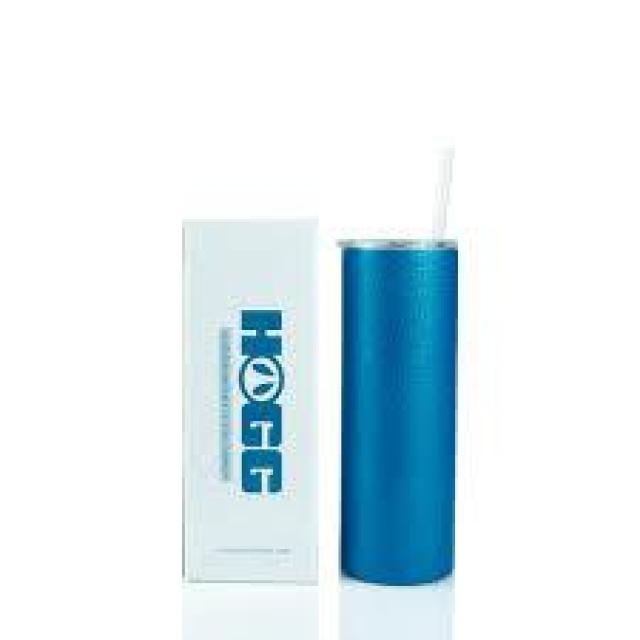bottle: (331, 144, 468, 596)
